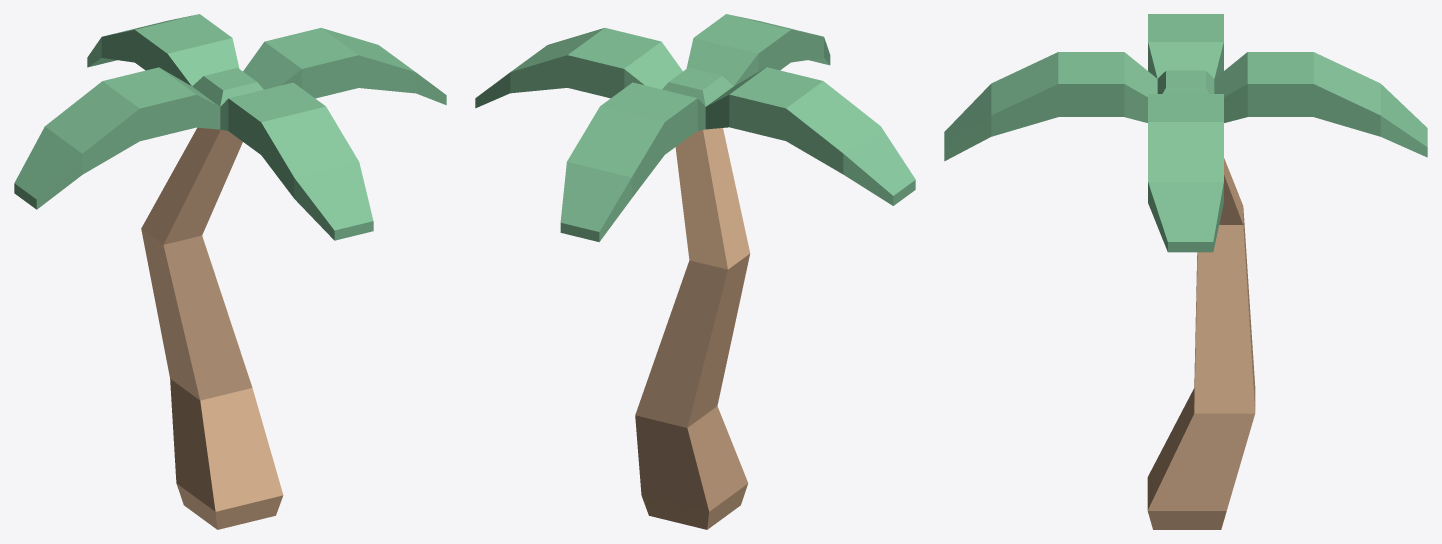
Rendered from palm_short.gltf.
The picture shows the model from 3 angles, left to right: view 1: azimuth 30°, elevation 25°; view 2: azimuth 150°, elevation 25°; view 3: azimuth 270°, elevation 25°; orthographic projection.
Visible parts, largest first — view 1: Group 25, Group 23; view 2: Group 25, Group 23; view 3: Group 25, Group 23.
Part boxes in pixels (x1,y1,x2,y2): Group 25: (14,14,446,240); Group 23: (141,127,283,529); Group 25: (475,14,915,242); Group 23: (635,128,750,529); Group 25: (944,14,1427,252); Group 23: (1147,158,1255,529).
Bounding box in the file's own units: 1.54 × 1.58 × 1.54.
